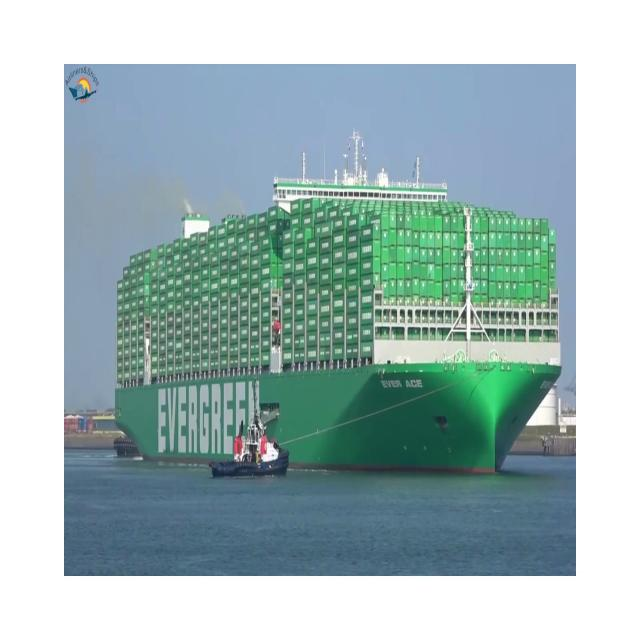OCR: (151, 366, 266, 482), (370, 362, 430, 407)
